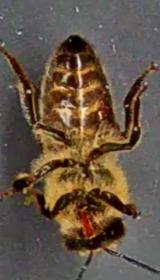varroa_mite: (84, 100, 120, 128)
